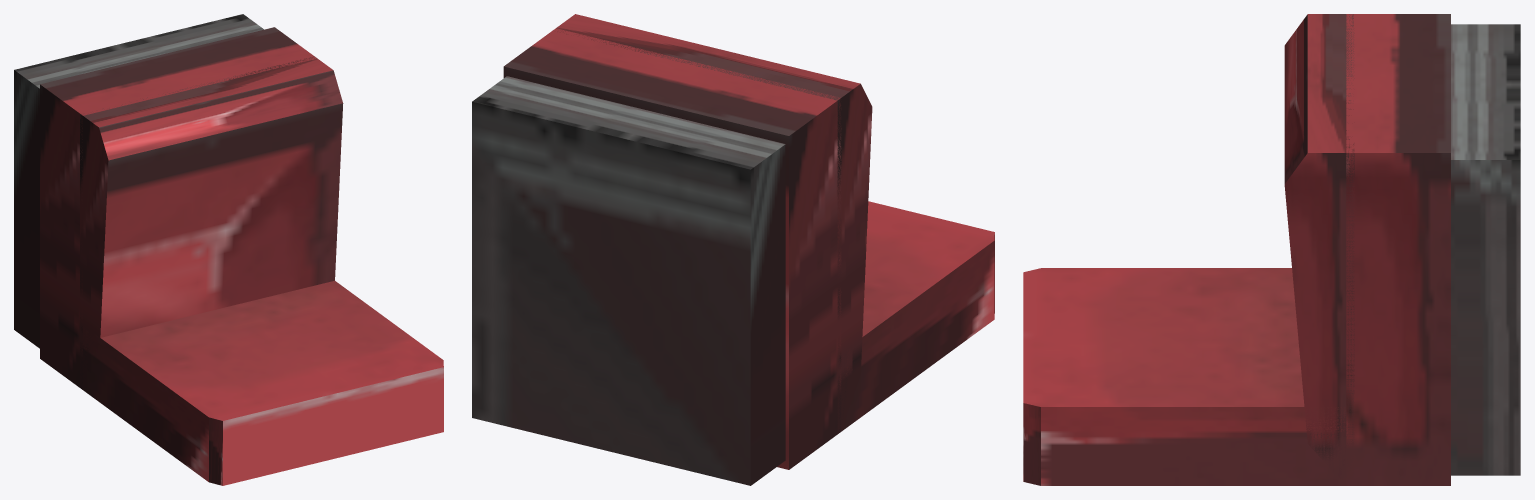
Rendered from pz_50s_red_1_fidelity_r1.obj.
3 renders of one model, left to right at view 1: azimuth 30°, elevation 25°; view 2: azimuth 150°, elevation 25°; view 3: azimuth 270°, elevation 25°, orthographic. The views are drawn at different scales.
Visible parts, largest first — view 1: pz_50s_red_1_fidelity_r1; view 2: pz_50s_red_1_fidelity_r1; view 3: pz_50s_red_1_fidelity_r1.
Boxes of the visible parts, x1=… form: pz_50s_red_1_fidelity_r1: x1=14, y1=14, x2=443, y2=485; pz_50s_red_1_fidelity_r1: x1=472, y1=14, x2=994, y2=485; pz_50s_red_1_fidelity_r1: x1=1023, y1=14, x2=1520, y2=485.
Size of the model in its own units: 0.85 by 0.95 by 1.28.
Materials: 1 (1 with a texture image).
